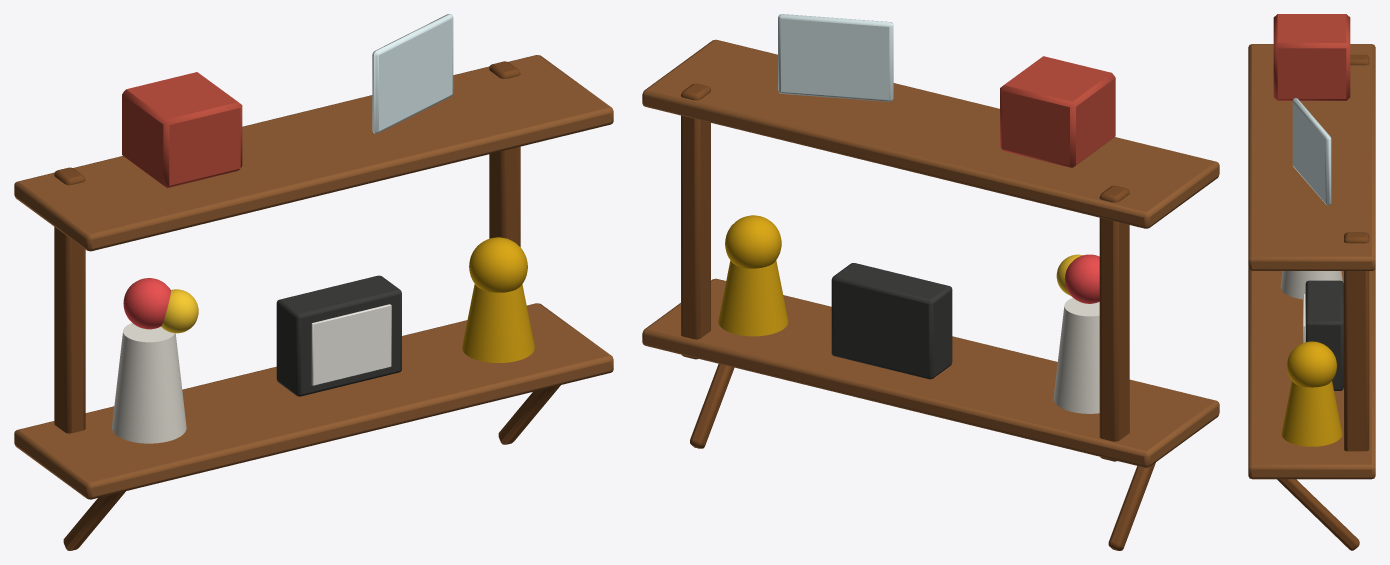
File: KeGo_TreoTuong.glb
The picture shows the model from 3 angles, left to right: view 1: azimuth 30°, elevation 25°; view 2: azimuth 150°, elevation 25°; view 3: azimuth 270°, elevation 25°; orthographic projection. The views are drawn at different scales.
Parts seen in each view (by area): view 1: KeGo_TreoTuong; view 2: KeGo_TreoTuong; view 3: KeGo_TreoTuong.
Part boxes in pixels (<box>): KeGo_TreoTuong: <box>14,14,613,550</box>; KeGo_TreoTuong: <box>642,14,1219,550</box>; KeGo_TreoTuong: <box>1248,14,1375,550</box>.
Bounding box in the file's own units: 0.8 × 0.6644 × 0.2.
